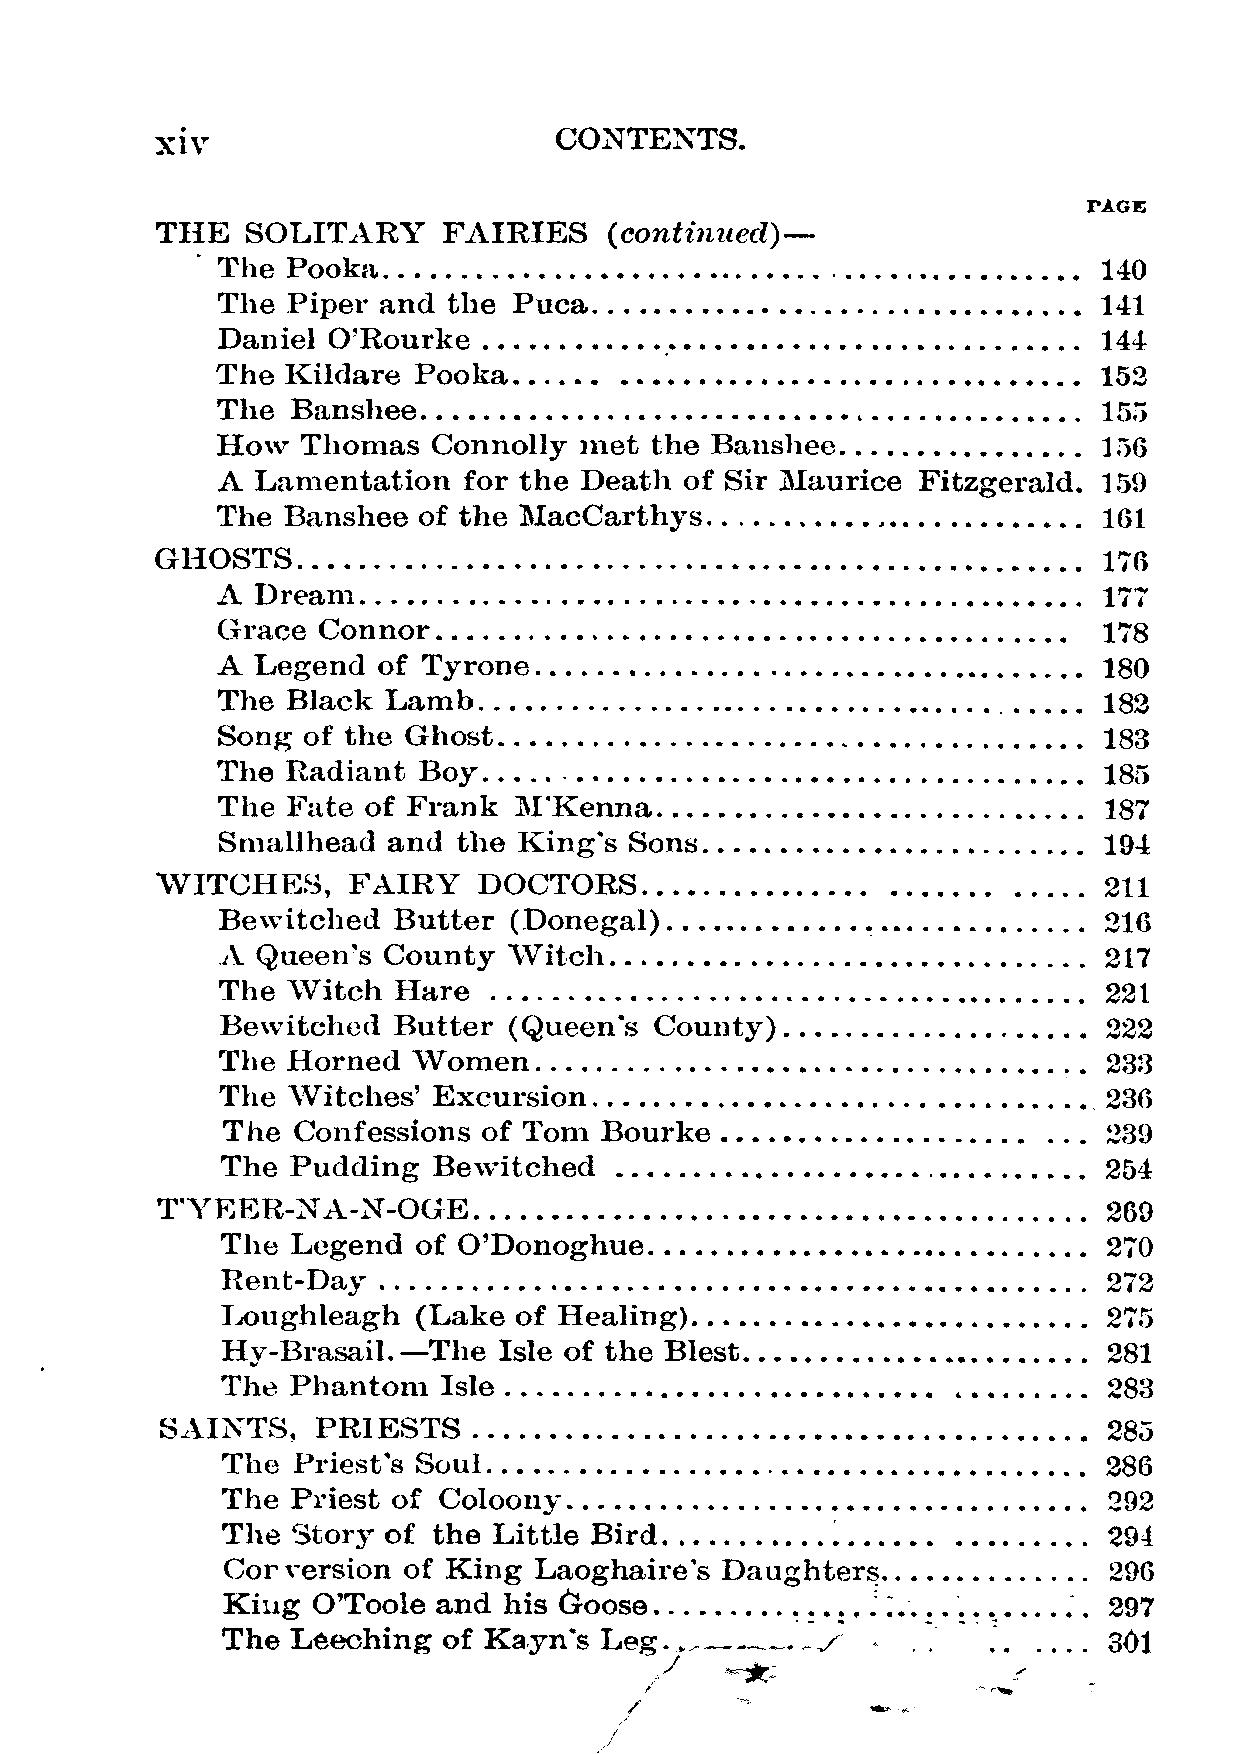TOC_chapter: (217, 463, 1082, 497), (153, 213, 816, 250), (221, 1555, 880, 1588), (217, 1011, 778, 1045), (217, 1330, 741, 1363), (217, 899, 662, 938), (213, 431, 837, 458), (211, 502, 706, 535), (217, 1115, 714, 1147), (157, 864, 639, 896), (217, 1622, 659, 1657), (217, 828, 699, 859), (217, 1225, 644, 1259), (217, 1588, 647, 1618), (220, 1518, 656, 1547), (215, 1302, 688, 1329), (217, 1150, 599, 1182), (217, 1482, 566, 1516), (217, 289, 589, 319), (215, 793, 654, 817), (215, 941, 609, 968), (158, 1410, 462, 1445), (217, 650, 533, 683), (217, 1080, 585, 1108), (215, 754, 476, 789), (213, 360, 507, 391), (150, 1190, 471, 1219), (217, 1045, 533, 1074), (215, 718, 493, 749), (211, 322, 475, 353), (217, 1370, 497, 1398), (217, 686, 475, 715), (211, 977, 472, 1005), (221, 1448, 482, 1476), (209, 395, 420, 425), (213, 613, 431, 641), (215, 1261, 368, 1296), (217, 252, 378, 285), (213, 578, 354, 609), (153, 542, 293, 570)
TOC_pagenumber: (1098, 867, 1153, 903), (1098, 1486, 1157, 1519), (1104, 1117, 1155, 1151), (1099, 616, 1151, 648), (1102, 907, 1153, 939), (1106, 1231, 1154, 1264), (1102, 651, 1154, 682), (1102, 542, 1151, 574), (1098, 360, 1150, 389), (1100, 722, 1153, 752), (1102, 688, 1151, 719), (1106, 1519, 1155, 1550), (1100, 829, 1153, 858), (1100, 395, 1147, 425), (1100, 758, 1151, 786), (1102, 1303, 1158, 1329), (1103, 1337, 1154, 1365), (1100, 582, 1149, 612), (1104, 1048, 1153, 1078), (1102, 501, 1147, 531), (1103, 1155, 1155, 1182), (1099, 291, 1147, 319), (1102, 431, 1150, 459), (1102, 945, 1150, 973), (1102, 793, 1147, 823), (1103, 1015, 1155, 1040), (1103, 1087, 1155, 1113), (1108, 1590, 1155, 1618), (1100, 980, 1151, 1005), (1103, 1417, 1154, 1443), (1106, 1451, 1151, 1479), (1104, 1197, 1154, 1223), (1100, 325, 1145, 353), (1099, 254, 1147, 279), (1099, 470, 1147, 495), (1106, 1374, 1154, 1400), (1104, 1559, 1155, 1584), (1103, 1631, 1151, 1655), (1108, 1270, 1154, 1295)
chapter: (545, 119, 752, 158)
